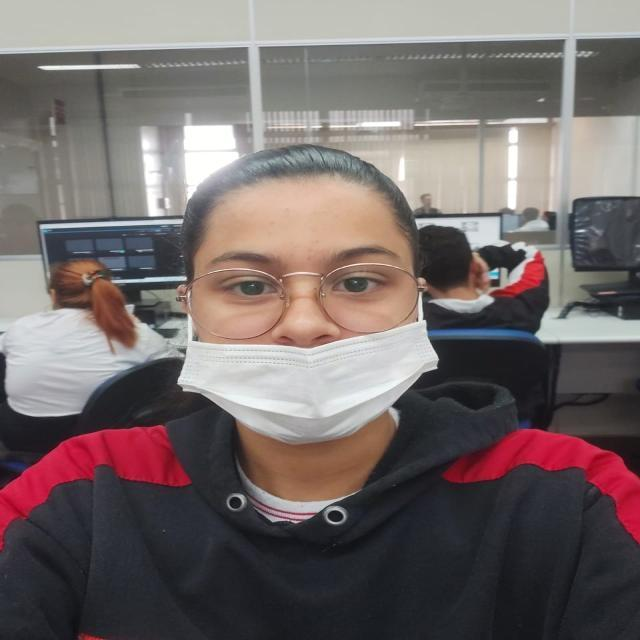hairnet: (182, 298, 436, 441)
